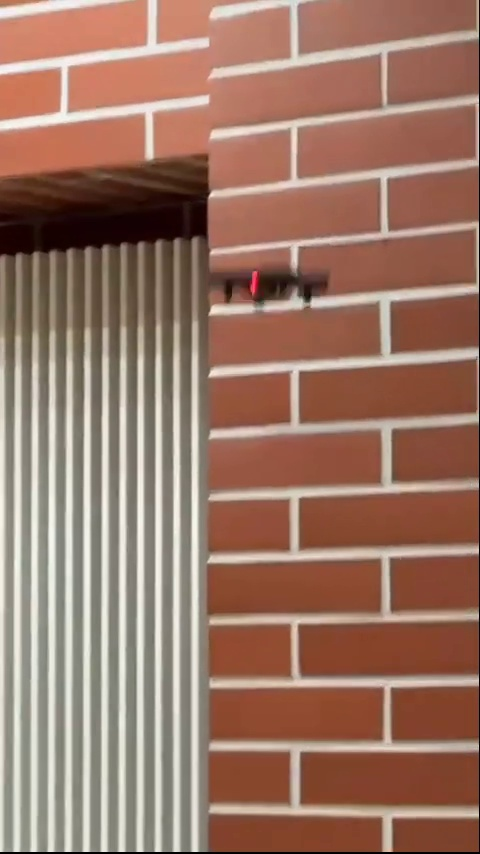drone: (211, 263, 338, 320)
